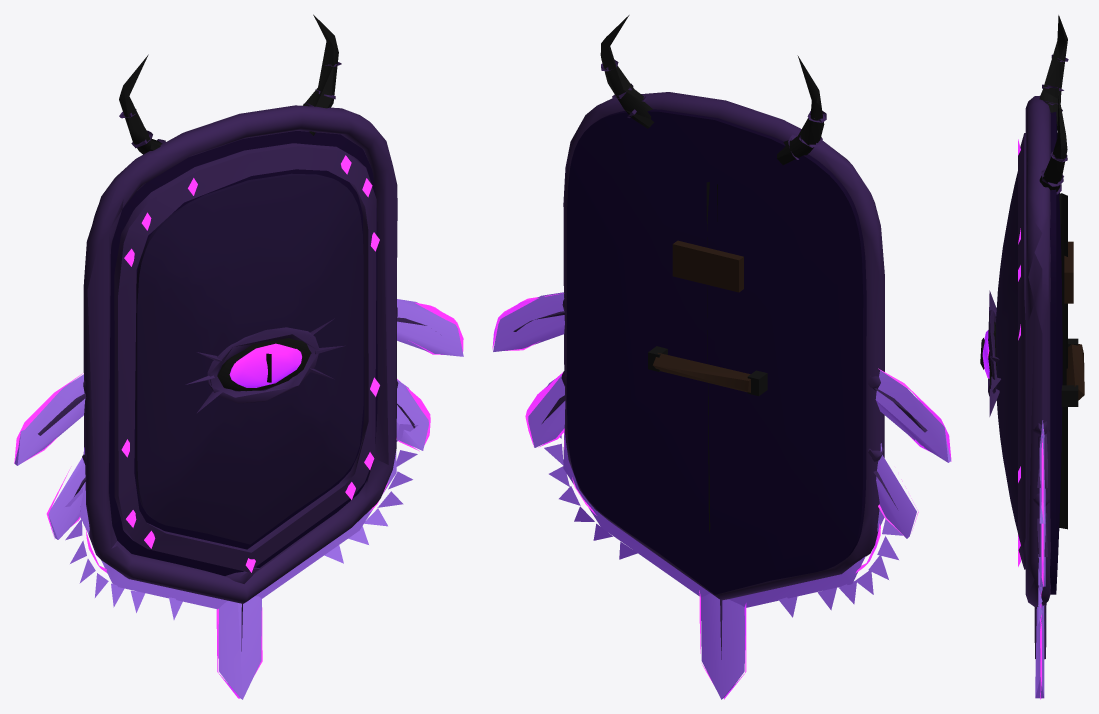
The model's file is greatshield_6.glb.
3 views of the same model, side by side, from view 1: azimuth 30°, elevation 25°; view 2: azimuth 150°, elevation 25°; view 3: azimuth 270°, elevation 25° (orthographic). The views are drawn at different scales.
Visible parts, largest first — view 1: greatshield_6; view 2: greatshield_6; view 3: greatshield_6.
Part boxes in pixels (bbox=[...]): greatshield_6: bbox=[14, 14, 463, 699]; greatshield_6: bbox=[492, 15, 951, 699]; greatshield_6: bbox=[980, 15, 1084, 699].
Bounding box in the file's own units: 0.9674 × 1.35 × 0.1985.
